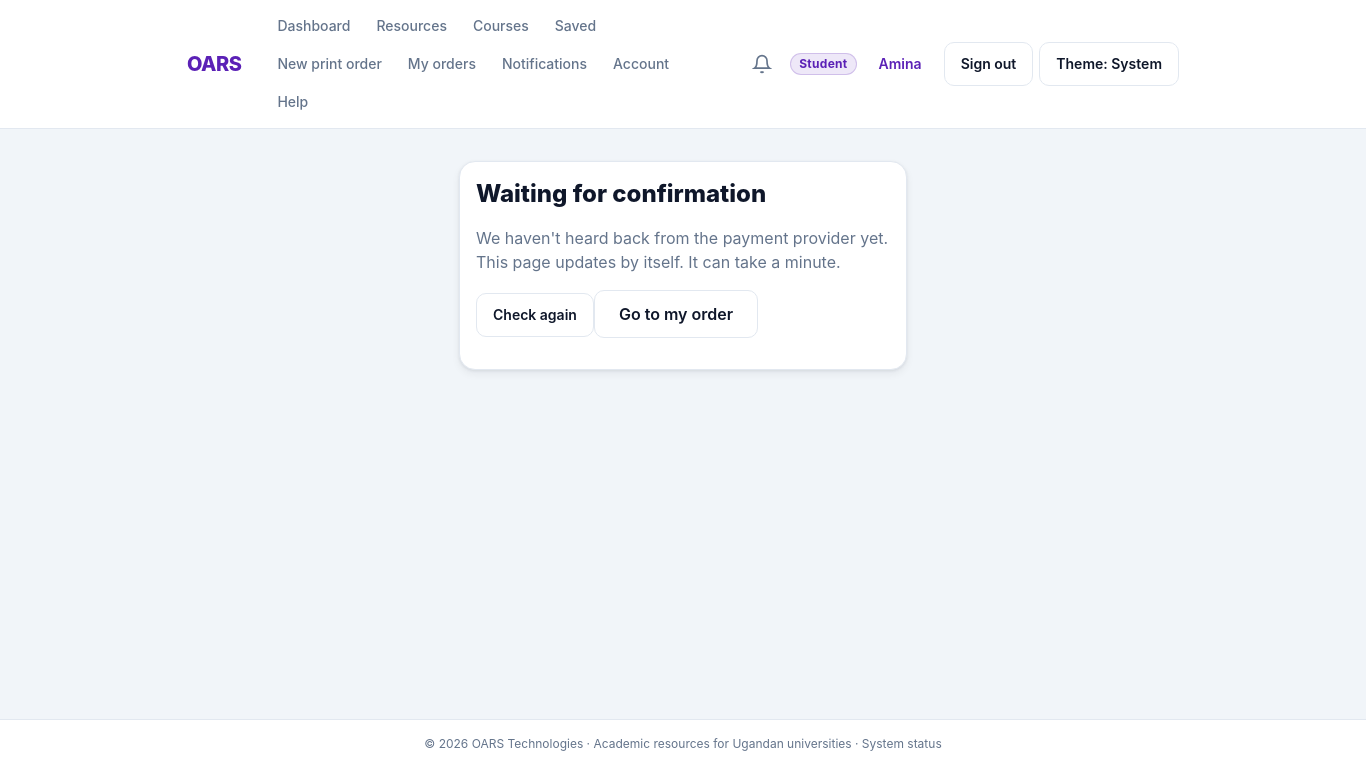
Test: PaymentReturnPage › re-checks with the server when asked, and updates once the payment is confirmed
Click the button "Check again" at (535, 315), box [476,293,594,337]
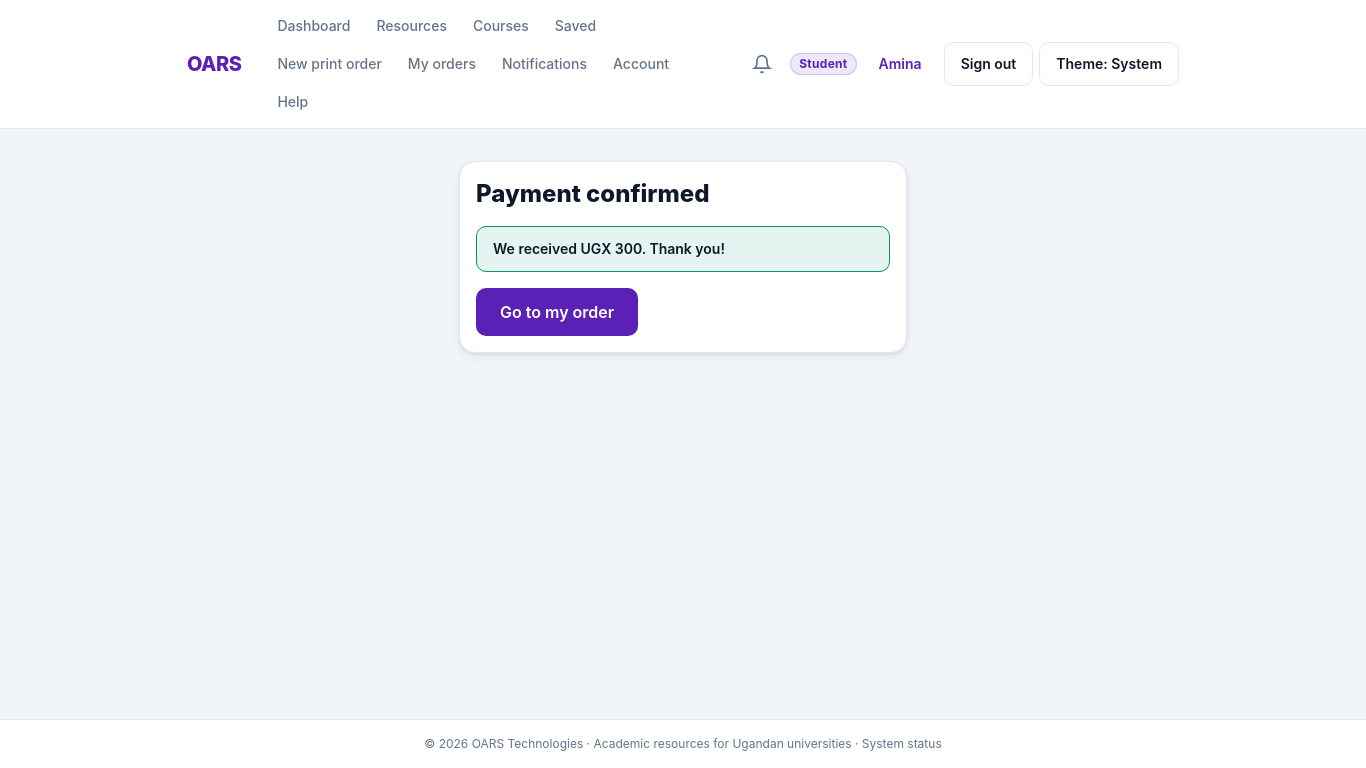
Check: the heading "Payment confirmed" is shown, box [476,179,710,208]
